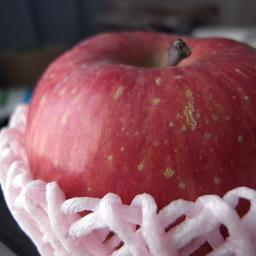apple: (6, 29, 256, 249)
